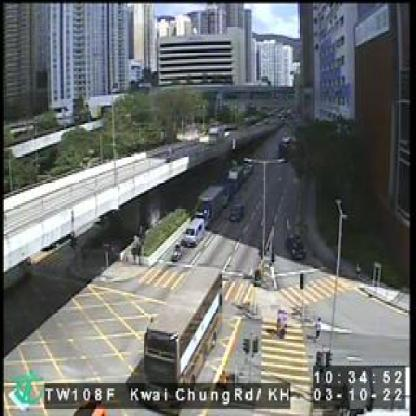Bus: (143, 267, 222, 407)
Car: (284, 232, 308, 260), (183, 220, 208, 245), (228, 204, 244, 222)
Truck: (195, 188, 225, 218)
